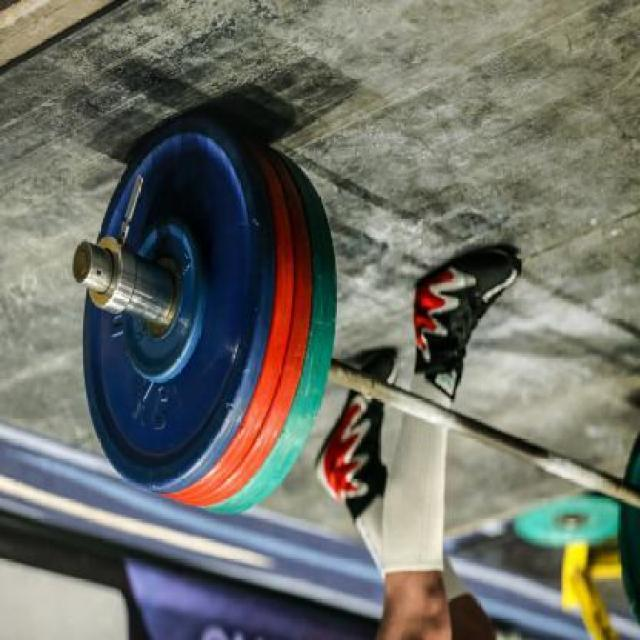Barbell: (66, 225, 103, 302)
